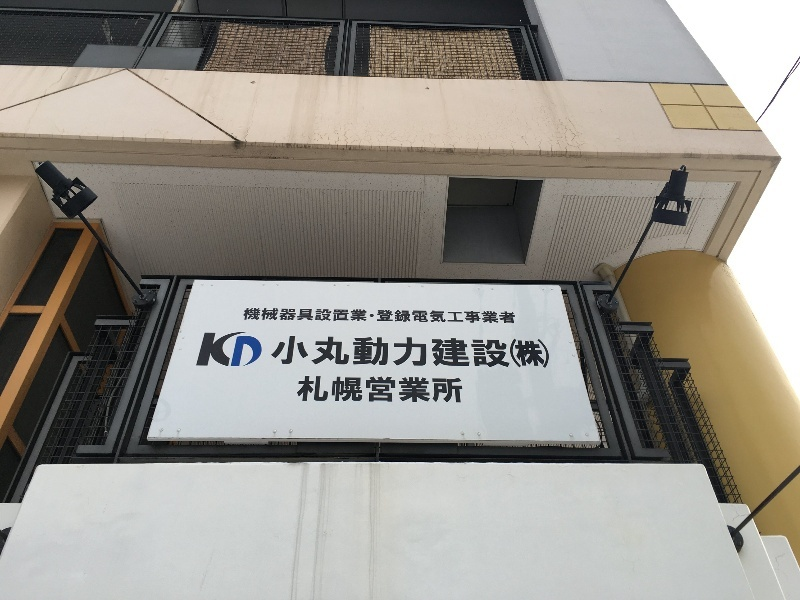text: (289, 333, 304, 373), (305, 333, 320, 373), (321, 333, 336, 373), (337, 333, 352, 373), (353, 333, 368, 373), (369, 333, 384, 373), (385, 333, 400, 373), (401, 333, 416, 373), (417, 333, 432, 373), (433, 333, 448, 373), (449, 333, 464, 373), (465, 333, 480, 373), (481, 333, 496, 373), (497, 333, 512, 373), (513, 333, 528, 373), (529, 333, 544, 373), (209, 328, 224, 368), (225, 328, 240, 368), (241, 328, 256, 368), (276, 333, 288, 373), (449, 376, 465, 403), (305, 376, 320, 403), (321, 376, 336, 403), (337, 376, 352, 403), (353, 376, 368, 403), (369, 376, 384, 403), (385, 376, 400, 403), (401, 376, 416, 403), (417, 376, 432, 403), (433, 376, 448, 403), (545, 333, 553, 373), (257, 328, 265, 368), (257, 309, 272, 323), (273, 309, 288, 323), (289, 309, 304, 323), (305, 309, 320, 323), (321, 309, 336, 323), (337, 309, 352, 323), (385, 311, 400, 325), (401, 311, 416, 325), (417, 311, 432, 325), (433, 311, 448, 325), (449, 311, 464, 325), (465, 311, 480, 325), (481, 311, 496, 325), (497, 311, 512, 325), (353, 309, 366, 323), (244, 309, 256, 323), (204, 328, 208, 368), (300, 376, 304, 403), (378, 311, 384, 325), (513, 311, 516, 325)
